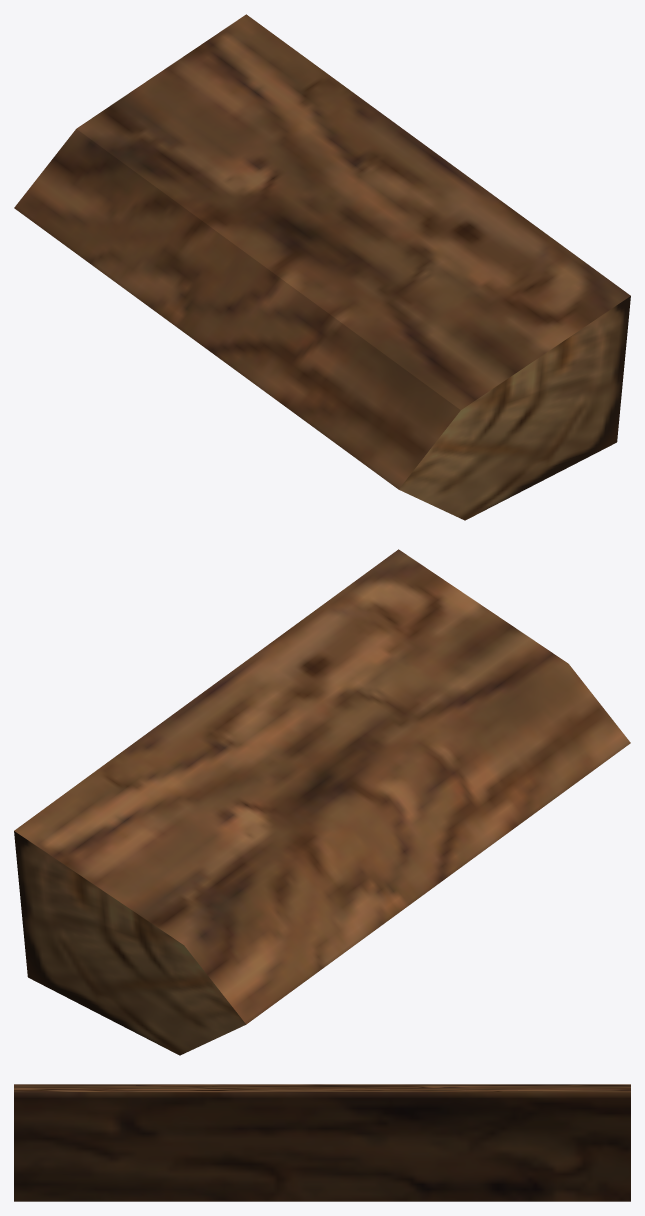
The model's file is fanasty_mod_log04.fbx.
The picture shows the model from 3 angles, top to bottom: view 1: azimuth 30°, elevation 25°; view 2: azimuth 150°, elevation 25°; view 3: azimuth 270°, elevation 25°; orthographic projection. The views are drawn at different scales.
Parts seen in each view (by area): view 1: log_04; view 2: log_04; view 3: log_04.
Boxes of the visible parts, <box> form: log_04: <box>14,14,630,520</box>; log_04: <box>14,549,630,1055</box>; log_04: <box>14,1084,630,1201</box>.
Size of the model in its own units: 0.3539 by 0.2683 by 1.01.
